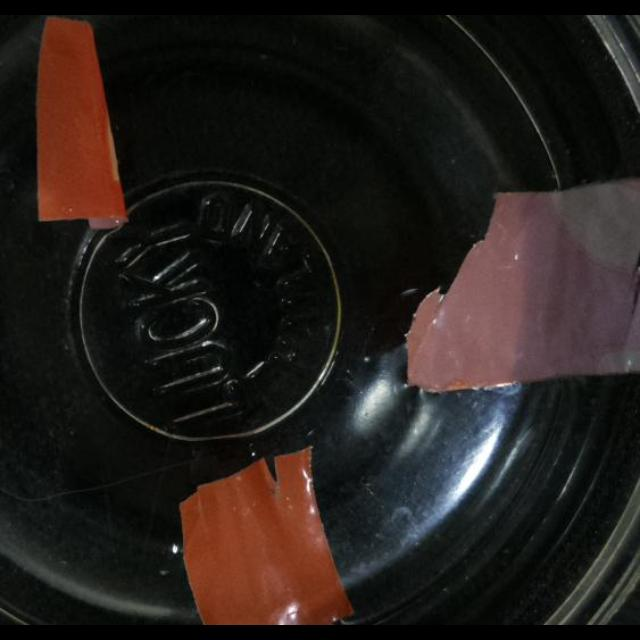Fragment: (406, 175, 640, 392), (178, 452, 352, 622), (34, 14, 130, 230)
